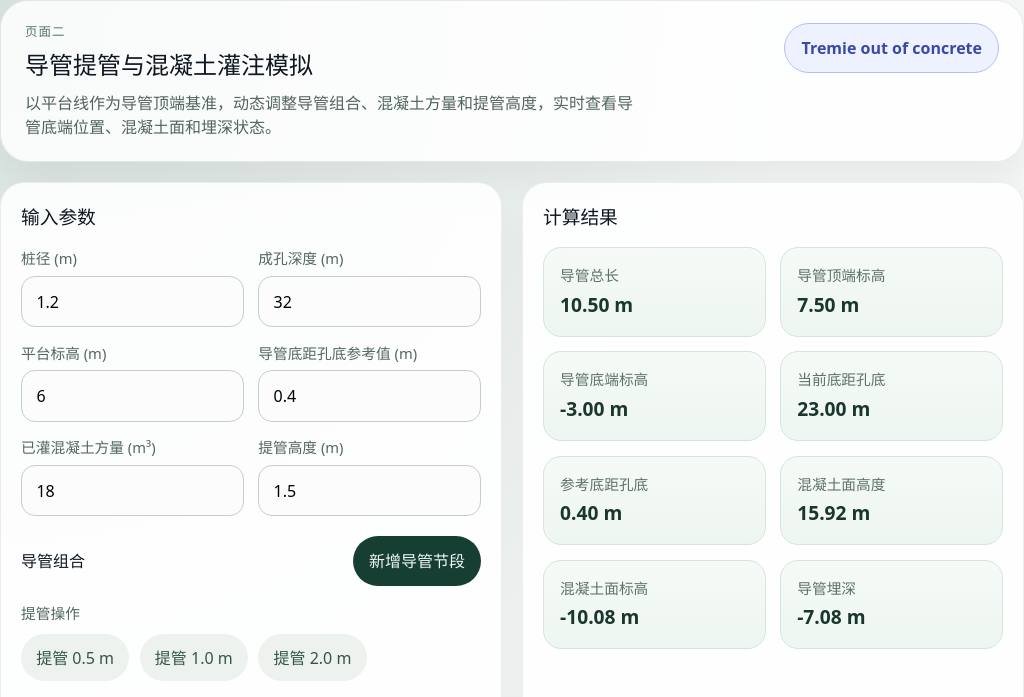
Test: pull operation raises the tremie and updates lift height
The image size is (1024, 697).
Expected: the field labelled "提管高度 (m)" holds "1.5", x1=258 y1=465 x2=481 y2=516
Click the button "提管 1.0 m".
click(194, 658)  # box x1=140 y1=634 x2=248 y2=681
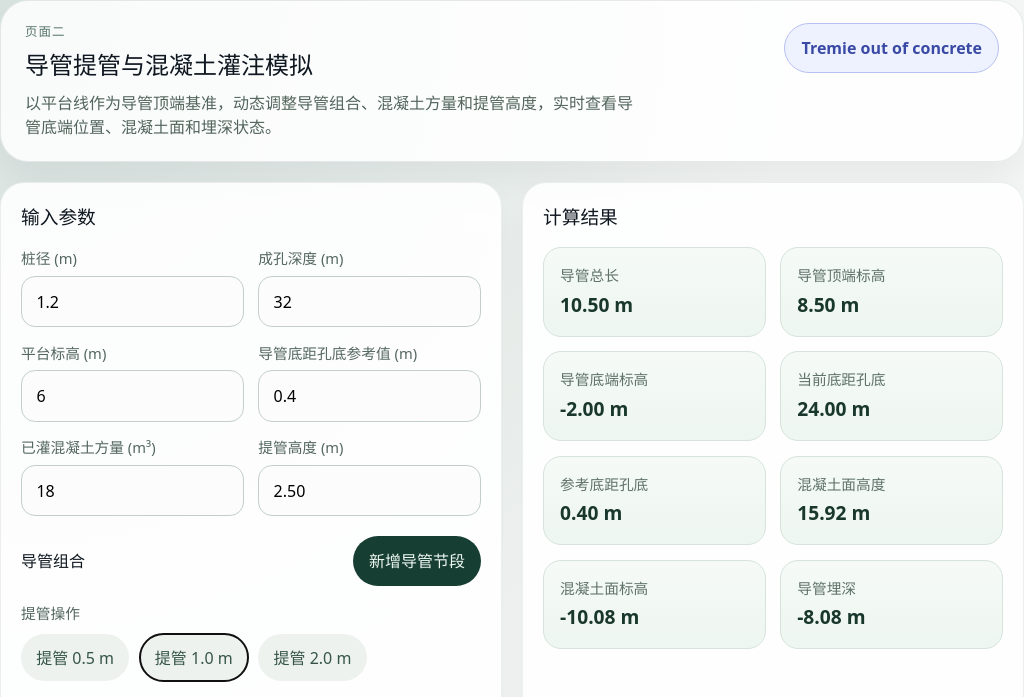
Now the field labelled "提管高度 (m)" holds "2.50", box x1=258 y1=465 x2=481 y2=516
